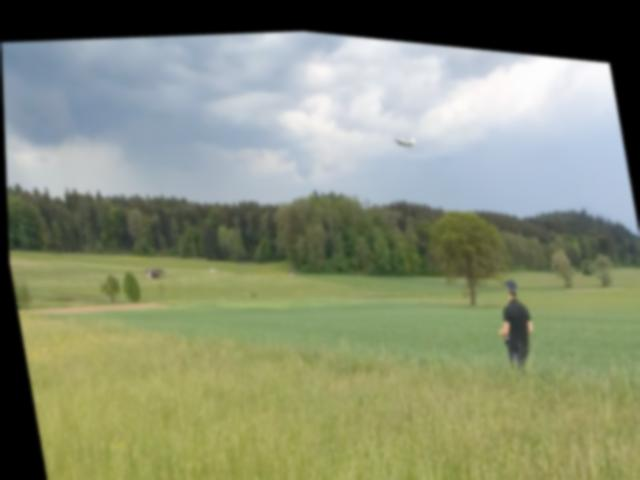plane: (392, 122, 417, 141)
